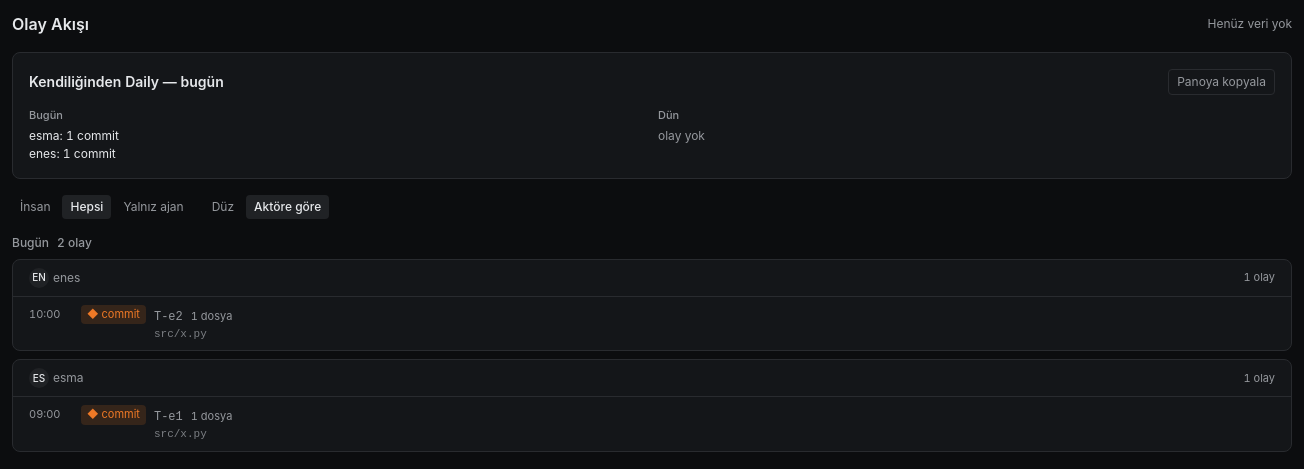
ActivityPage — görünüm anahtarı: Düz | Aktöre göre (#319) › 'Düz' seçilince aktör alt-gruplaması KALKAR — gün ayraçlı düz akış
The width and height of the screenshot is (1304, 469).
Step 1. Click the button "Düz" → (223, 206), box [204,194,242,218]
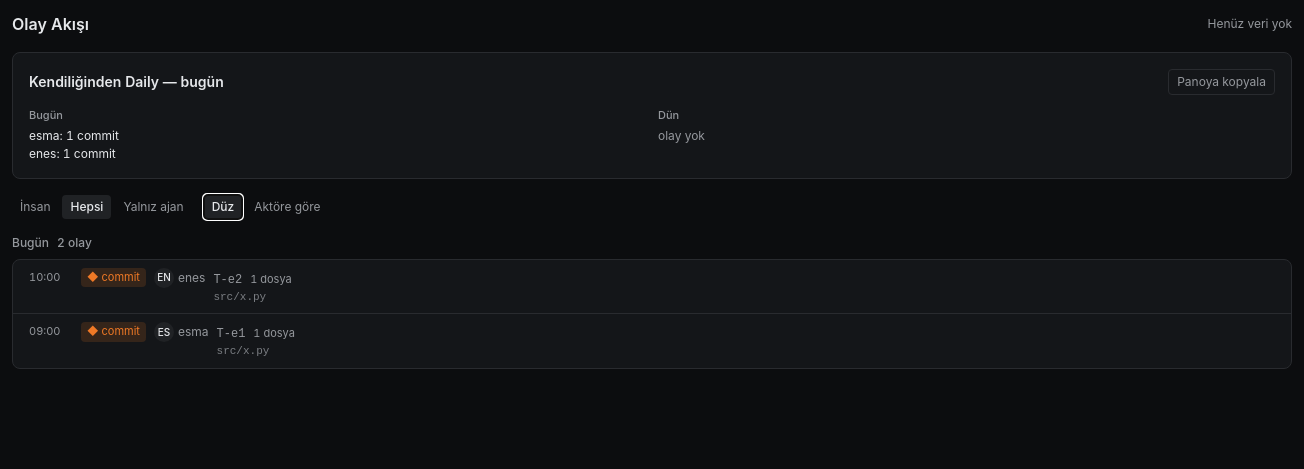
Expected: the list named "Bugün olayları (düz)" is shown, [12,258,1292,369]
